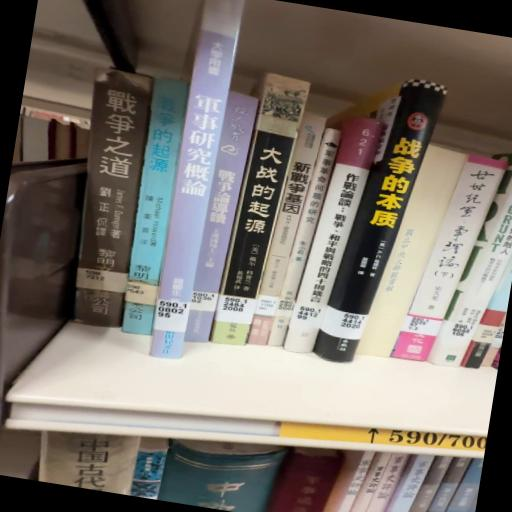backward: (357, 144, 467, 358)
book: (310, 72, 446, 373), (210, 74, 310, 357), (59, 67, 163, 333), (392, 144, 508, 373), (288, 116, 385, 365), (356, 143, 462, 369), (114, 78, 193, 343), (186, 94, 261, 357)
